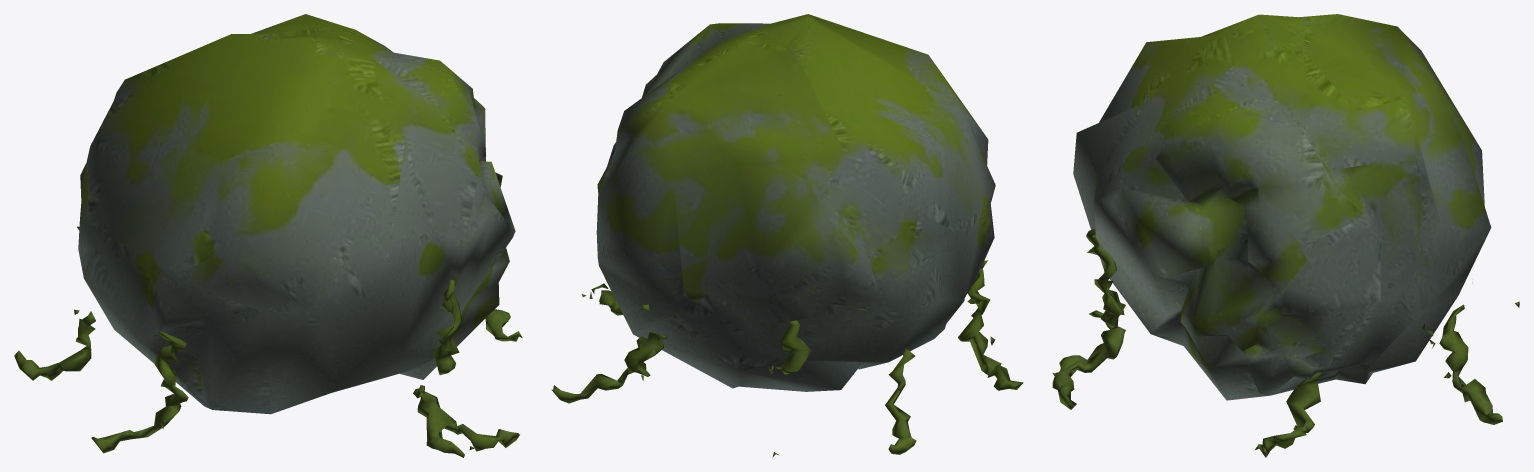
The model's file is l_rock_jungle1.glb.
3 views of the same model, side by side, from view 1: azimuth 30°, elevation 25°; view 2: azimuth 150°, elevation 25°; view 3: azimuth 270°, elevation 25° (orthographic). The views are drawn at different scales.
Size of the model in its own units: 0.8848 by 0.7081 by 0.8613.
1 material, 1 textured.
